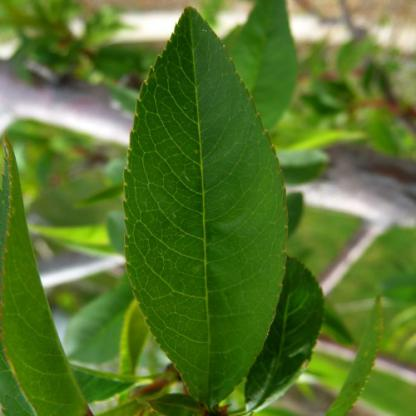peach leaf: (105, 4, 290, 415)
